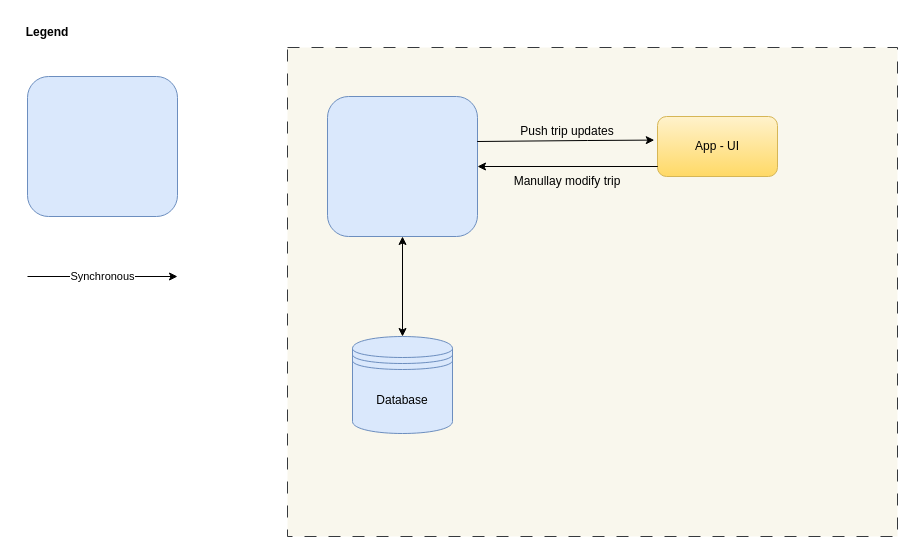
Some shapes in this 915 by 554 pixel diagram are drawn without their labels. The centre of each missing label's shape, as x and y in pixels:
Service RESTAPI: the point at 102,146
TripPlanner - Service Manage trip, manual update to trip: the point at 402,166
